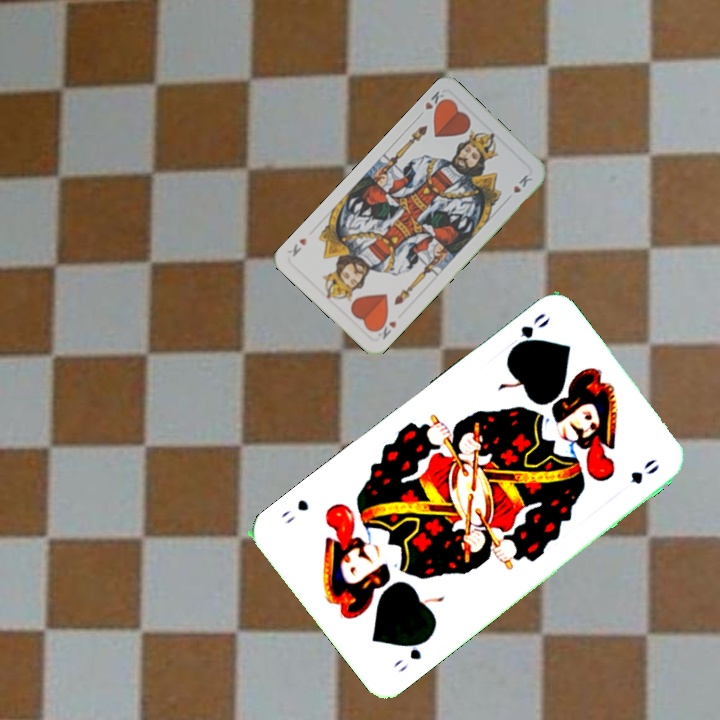GO: (505, 308, 553, 356), (389, 632, 433, 675)
HK: (414, 87, 450, 120), (371, 314, 399, 342)
